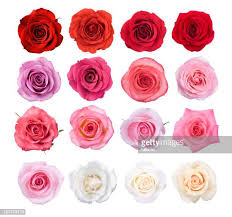lale: (170, 2, 225, 57), (16, 5, 71, 58), (114, 7, 171, 56), (67, 53, 117, 104), (117, 58, 172, 103), (171, 60, 228, 103), (67, 8, 117, 57), (10, 106, 60, 155), (171, 107, 222, 155), (120, 108, 171, 155), (16, 160, 63, 211), (66, 107, 114, 156), (171, 160, 222, 205), (70, 163, 119, 208), (122, 160, 169, 205), (15, 57, 61, 101)
